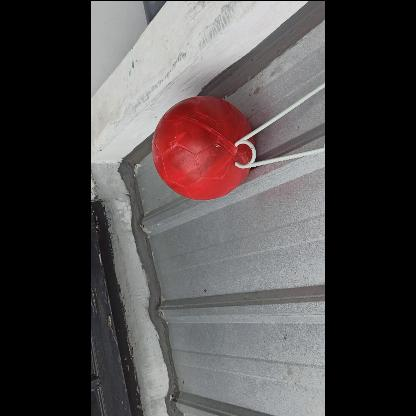red_ball: (151, 96, 255, 200)
